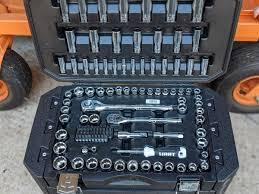wrench: (78, 97, 173, 113), (104, 111, 182, 124)
